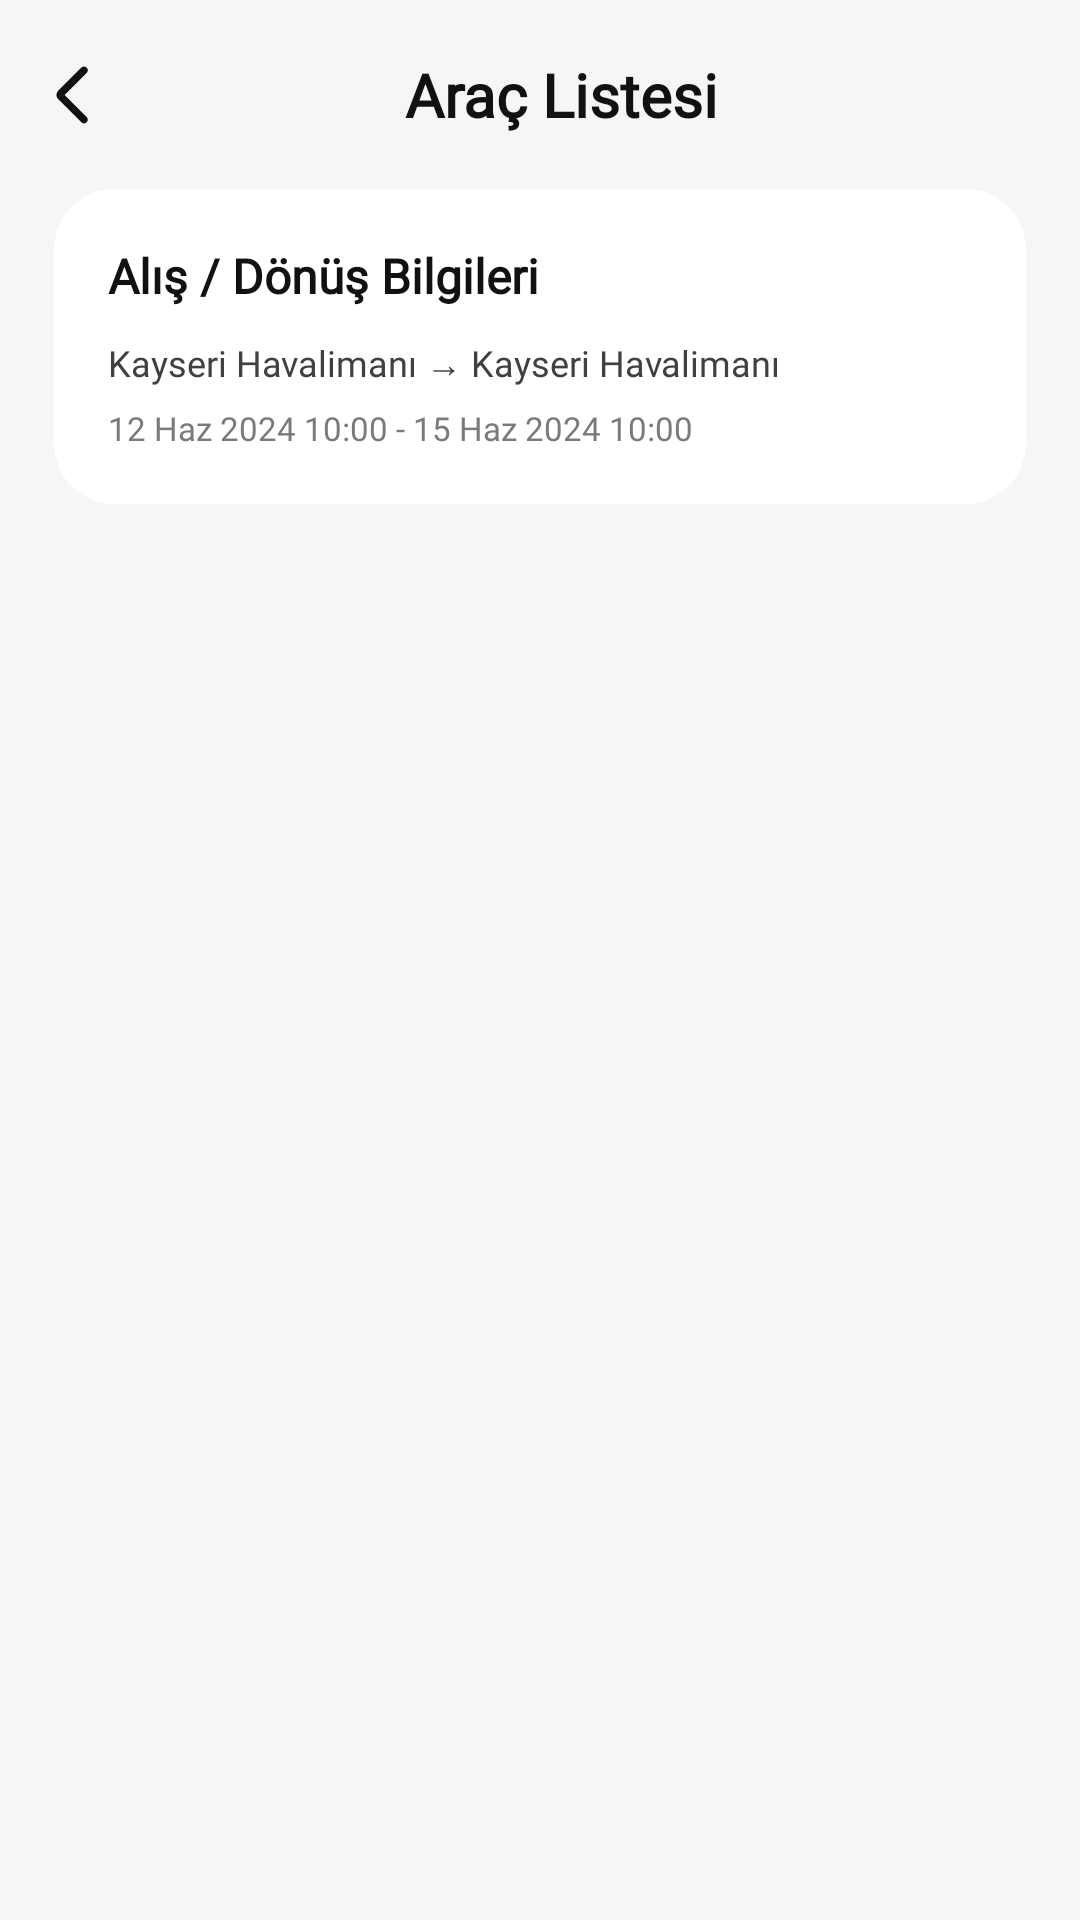

Named icons in this screenshot (1080px×1920px) and their centers, [x,y]:
arrow back: [72,95]
